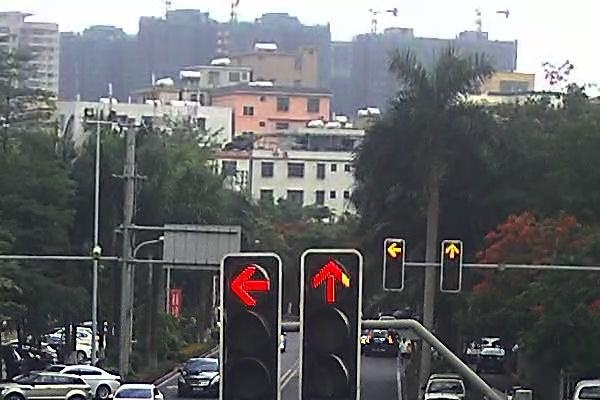redleft: (226, 264, 274, 305), (387, 240, 404, 258)
redstraight: (309, 257, 352, 305), (443, 242, 462, 262)
